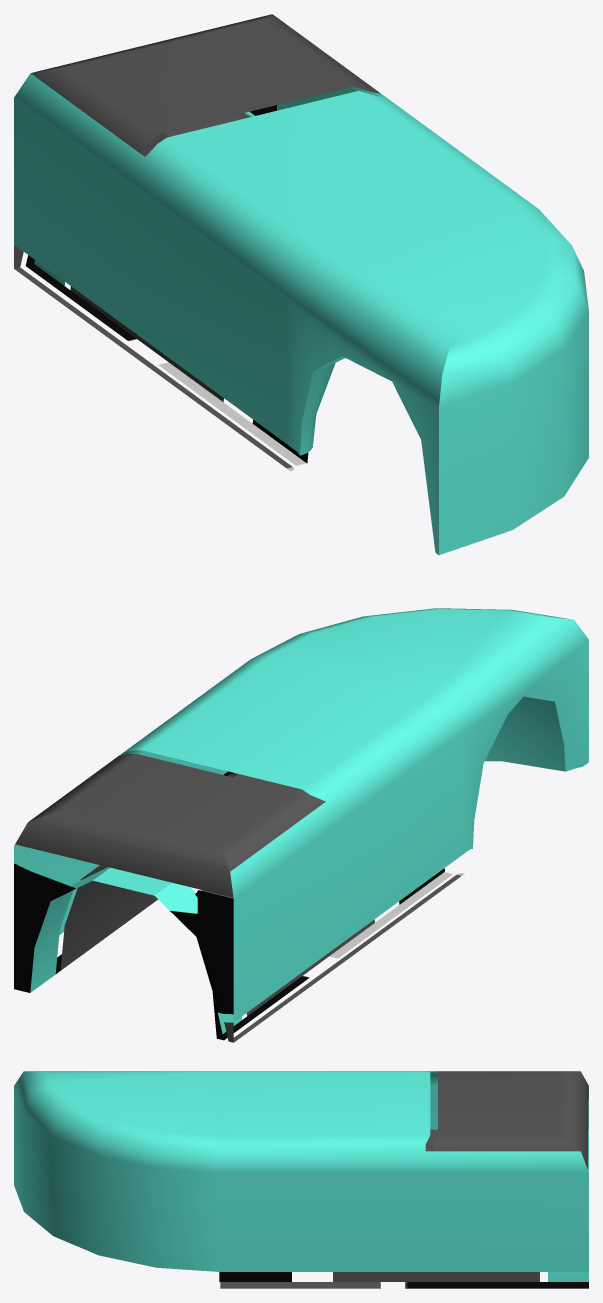
File: Sewer.fbx
3 views of the same model, one above another, from view 1: azimuth 30°, elevation 25°; view 2: azimuth 150°, elevation 25°; view 3: azimuth 270°, elevation 25° (orthographic). The views are drawn at different scales.
Visible parts, largest first — view 1: Sewer; view 2: Sewer; view 3: Sewer.
Boxes of the visible parts, x1,y1,x2,y2 form: Sewer: (14,14,588,555); Sewer: (14,608,588,1042); Sewer: (14,1071,588,1288).
Size of the model in its own units: 12.15 by 9.2 by 33.99.
1 material, 1 textured.
